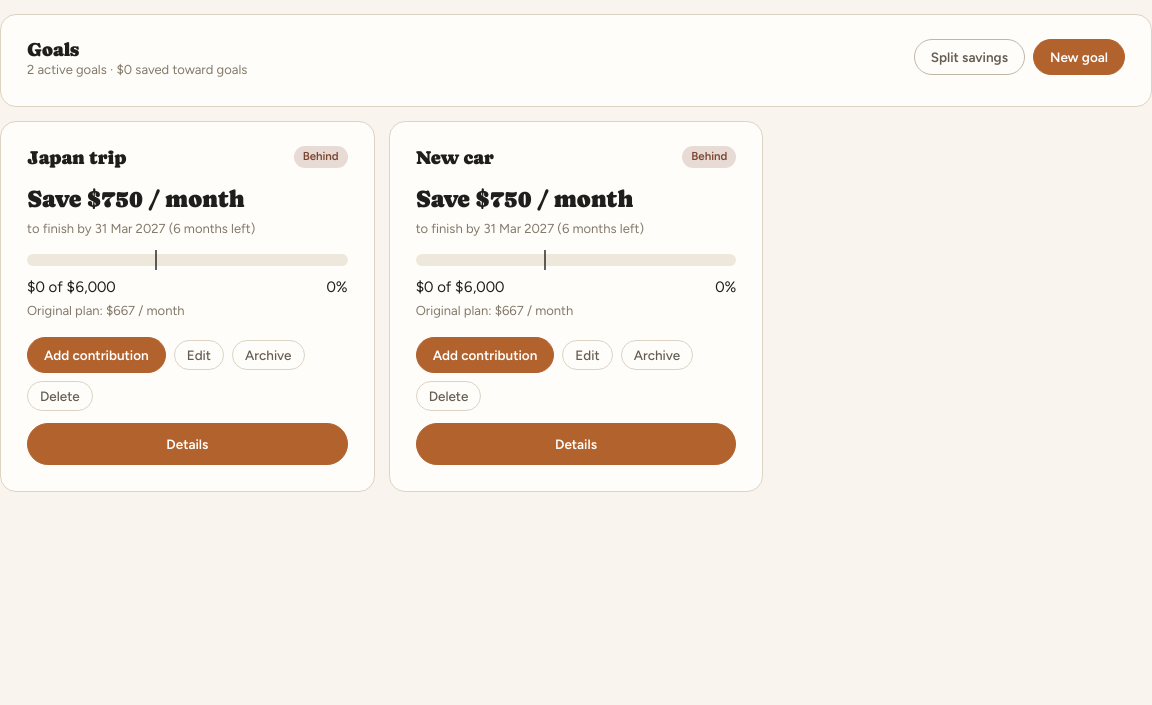
Split savings › leaves the total empty when Unallocated is not positive
Click the button "Split savings" at {"x": 969, "y": 57}, box [914, 39, 1025, 75]
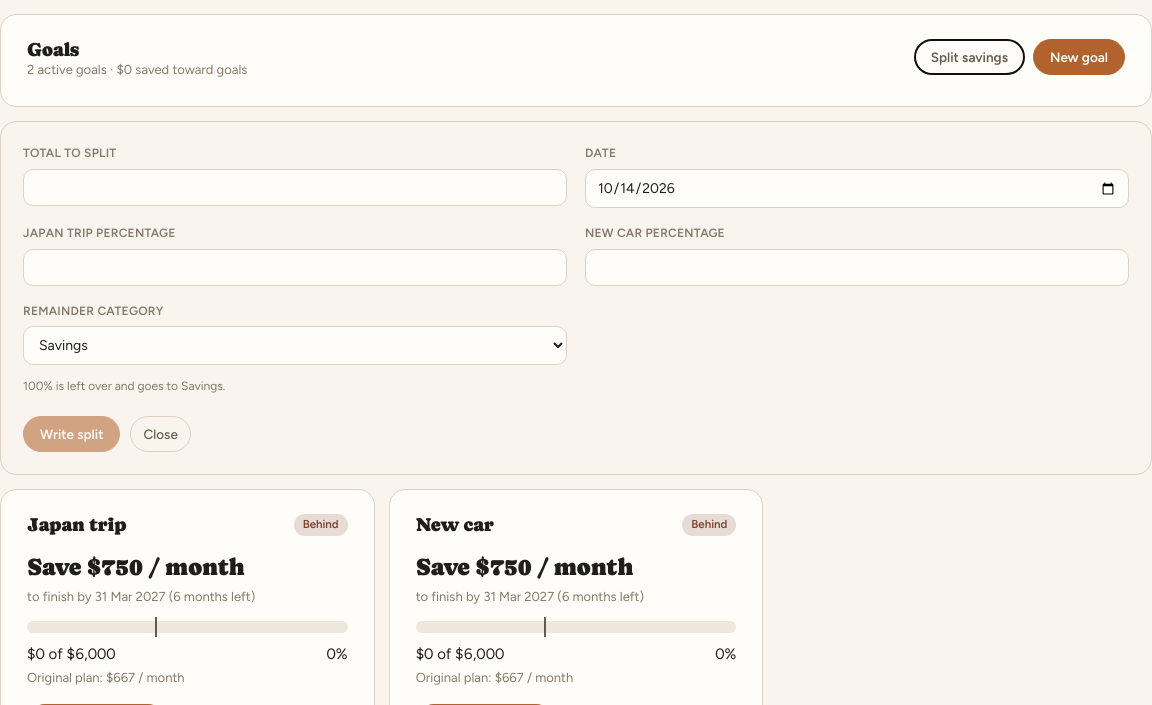
Result: the number field labelled "Total to split" is not empty at [23, 169, 567, 206]
